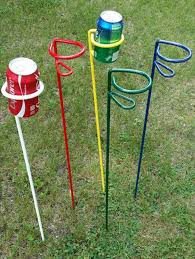can: (6, 58, 41, 118), (91, 11, 125, 63)
